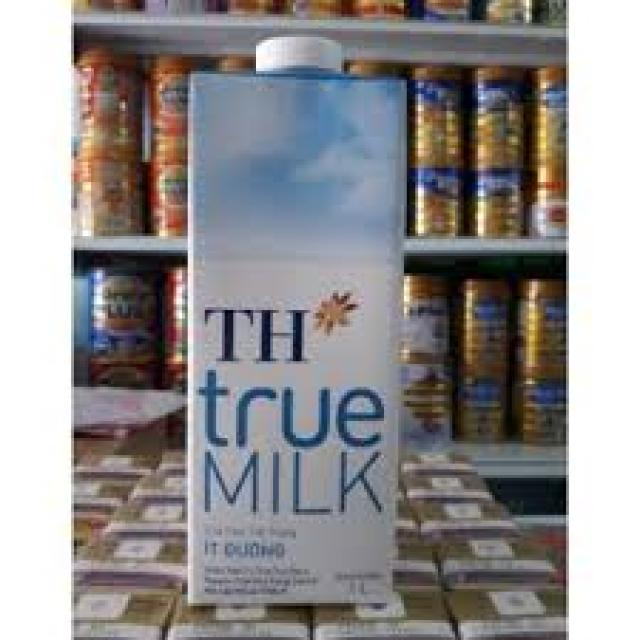non_white_jug: (156, 17, 412, 612)
